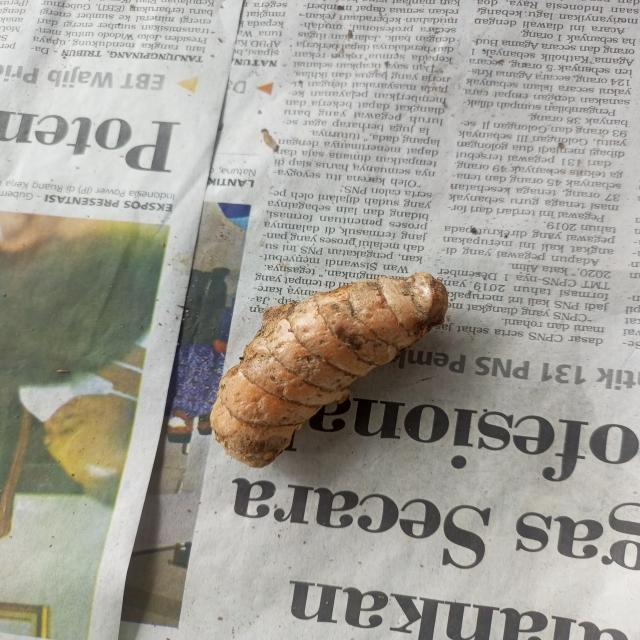ginger: (211, 272, 466, 444)
